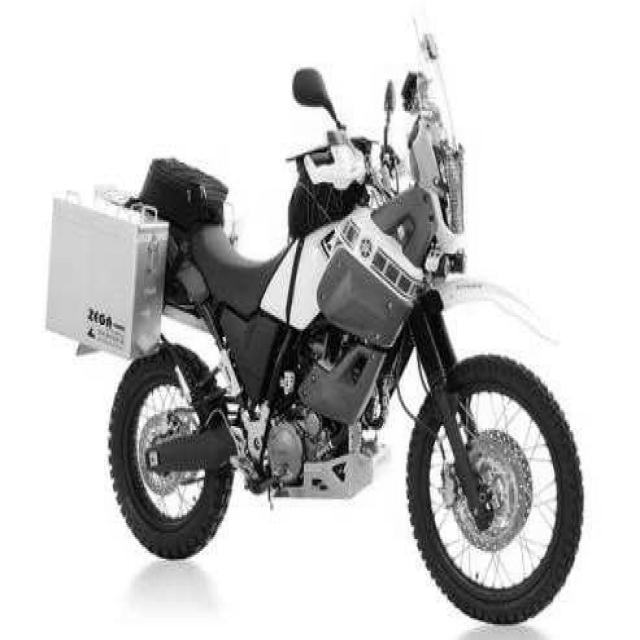Motorcycle: (110, 38, 581, 623)
